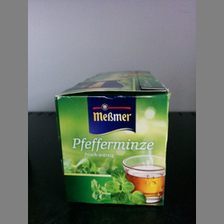tea: (55, 70, 171, 207)
